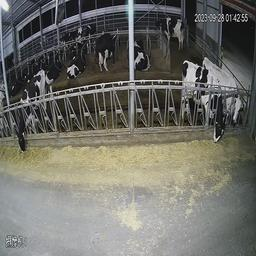cow: (11, 63, 65, 174), (177, 56, 225, 158), (202, 49, 243, 133), (153, 9, 185, 51), (94, 31, 120, 75), (133, 34, 154, 79), (65, 47, 89, 85), (61, 19, 85, 46), (46, 52, 62, 85)
